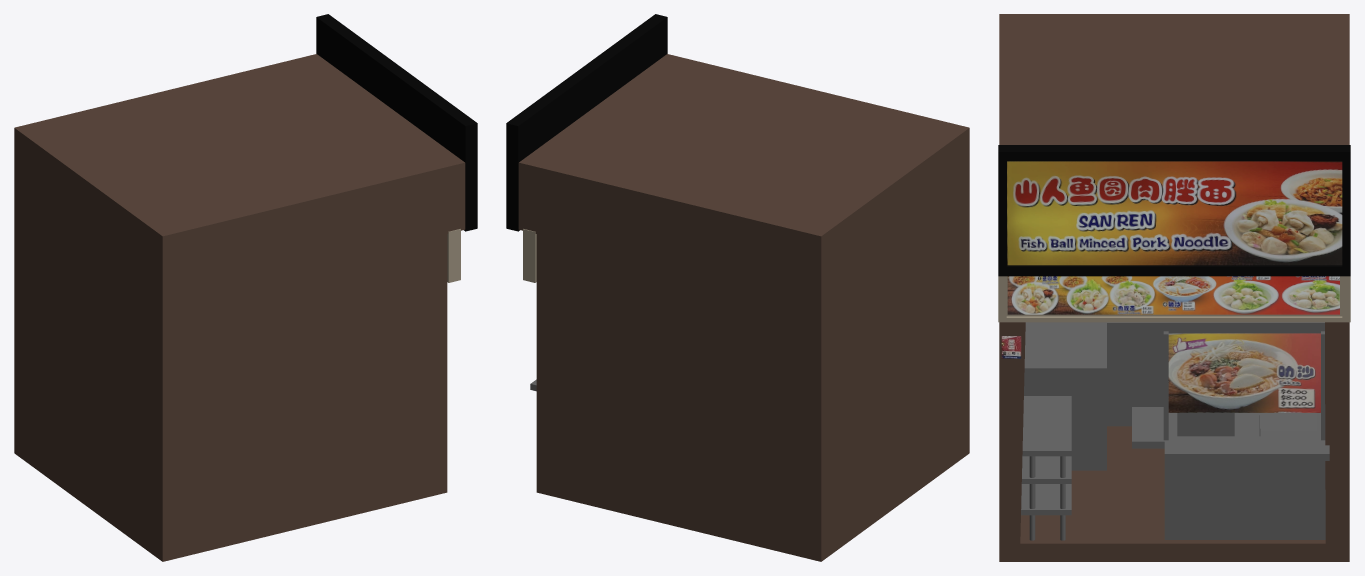
Rendered from SANREN_FishBall_Noodle.fbx.
The picture shows the model from 3 angles, left to right: view 1: azimuth 30°, elevation 25°; view 2: azimuth 150°, elevation 25°; view 3: azimuth 270°, elevation 25°; orthographic projection. The views are drawn at different scales.
Visible parts, largest first — view 1: Cube.003; view 2: Cube.003; view 3: Cube.003.
Boxes of the visible parts, left/top/right/bottom form: Cube.003: left=14, top=14, right=477, bottom=561; Cube.003: left=506, top=14, right=969, bottom=561; Cube.003: left=998, top=14, right=1350, bottom=561.
Bounding box in the file's own units: 5.2 × 5.72 × 4.27.
